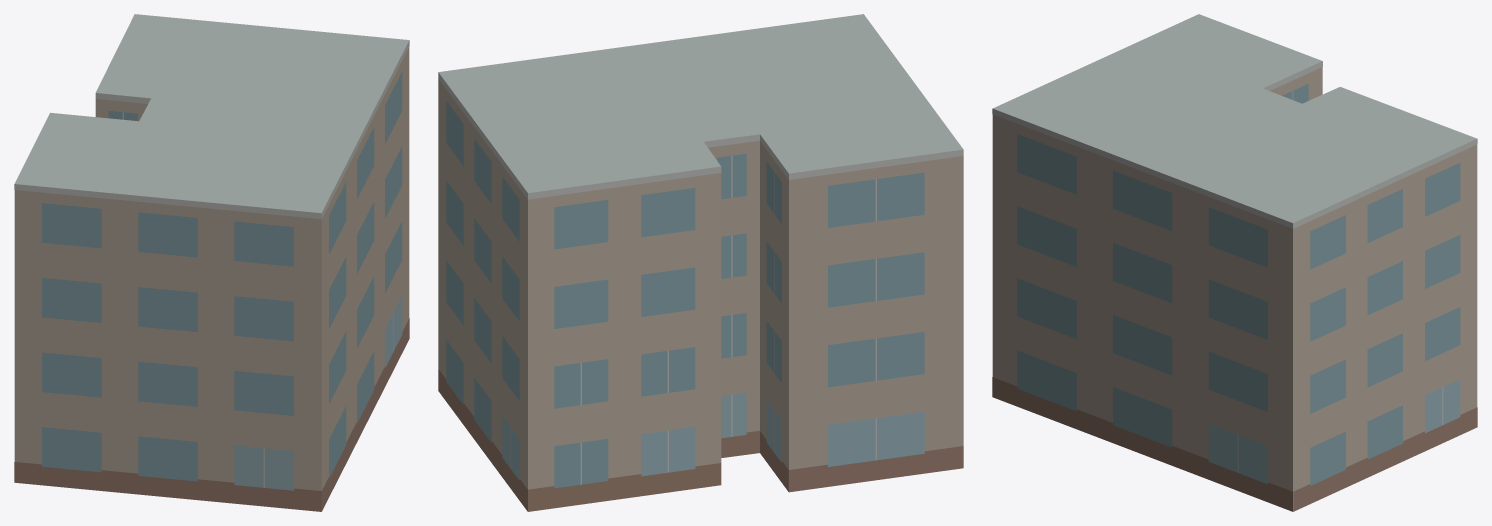
File: survey-upis-32516997.glb
3 renders of one model, left to right at view 1: azimuth 30°, elevation 25°; view 2: azimuth 150°, elevation 25°; view 3: azimuth 270°, elevation 25°, orthographic. The views are drawn at different scales.
Parts seen in each view (by area): view 1: survey-upis-32516997.tmp; view 2: survey-upis-32516997.tmp; view 3: survey-upis-32516997.tmp.
Boxes of the visible parts, <box> form: survey-upis-32516997.tmp: <box>14,14,409,511</box>; survey-upis-32516997.tmp: <box>438,14,963,511</box>; survey-upis-32516997.tmp: <box>992,14,1477,511</box>.
Bounding box in the file's own units: 18.98 × 12.2 × 18.58.
